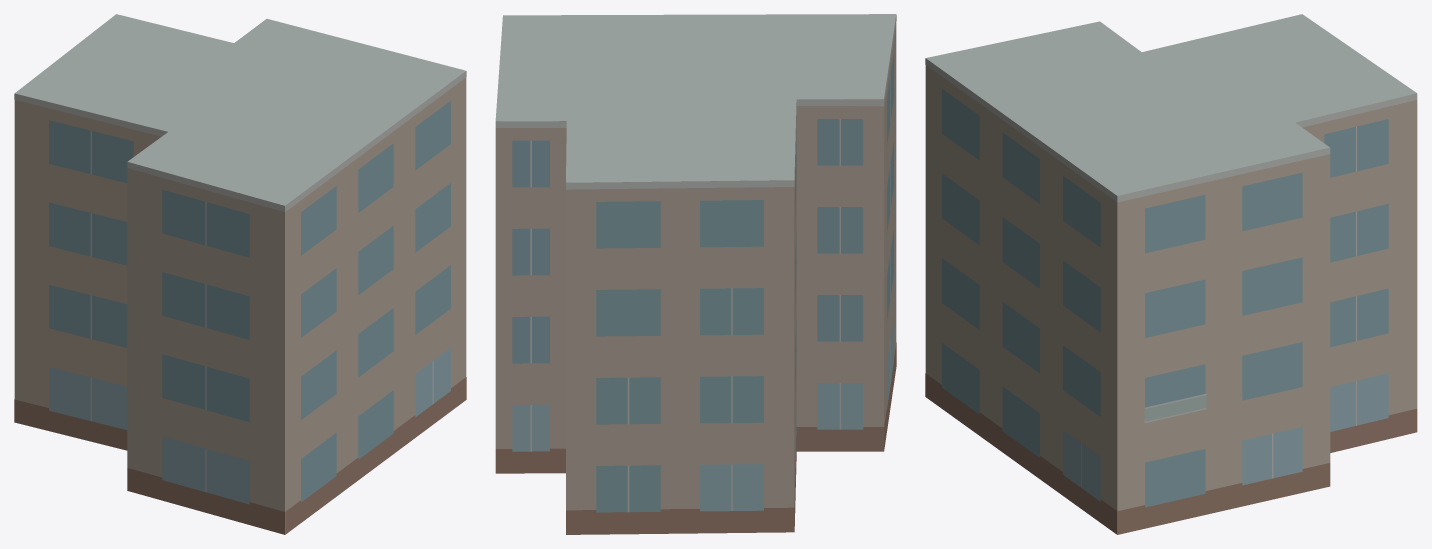
The model's file is survey-upis-33009331.glb.
3 views of the same model, side by side, from view 1: azimuth 30°, elevation 25°; view 2: azimuth 150°, elevation 25°; view 3: azimuth 270°, elevation 25° (orthographic). The views are drawn at different scales.
Parts seen in each view (by area): view 1: survey-upis-33009331.tmp; view 2: survey-upis-33009331.tmp; view 3: survey-upis-33009331.tmp.
Part boxes in pixels (x1,y1,x2,y2): survey-upis-33009331.tmp: (14,14,466,534); survey-upis-33009331.tmp: (495,14,896,534); survey-upis-33009331.tmp: (925,14,1417,534).
Size of the model in its own units: 14.64 by 12.7 by 16.72.
